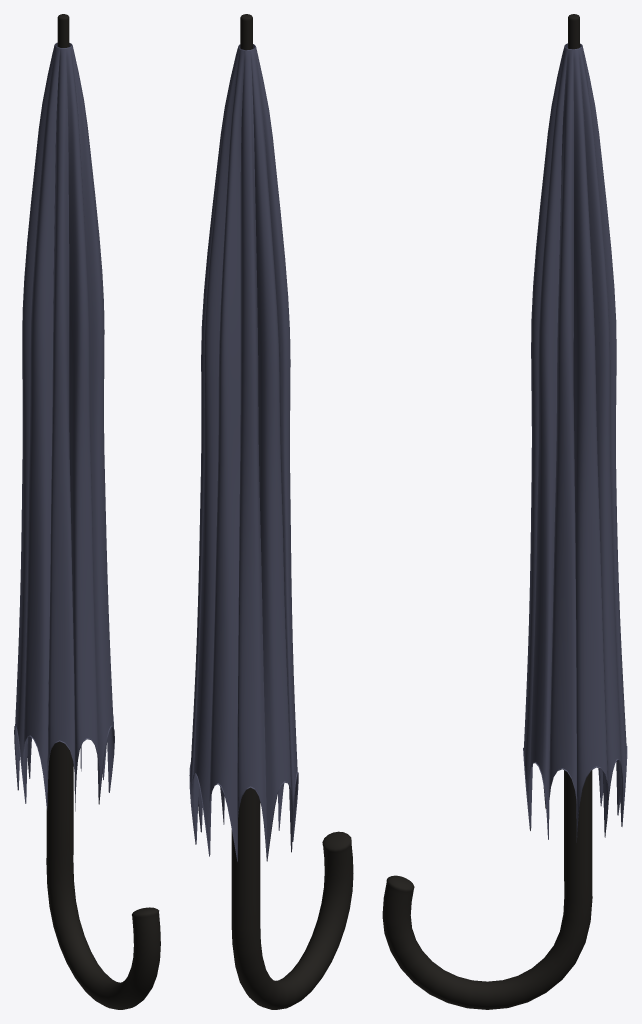
The model's file is Umbrella.fbx.
3 renders of one model, left to right at view 1: azimuth 30°, elevation 25°; view 2: azimuth 150°, elevation 25°; view 3: azimuth 270°, elevation 25°, orthographic. The views are drawn at different scales.
Visible parts, largest first — view 1: Umbrella_Teo_canopy_geo; view 2: Umbrella_Teo_canopy_geo; view 3: Umbrella_Teo_canopy_geo.
Boxes of the visible parts, box(x1,y1,x2,y2) form: Umbrella_Teo_canopy_geo: box(14, 14, 160, 1009); Umbrella_Teo_canopy_geo: box(189, 14, 353, 1009); Umbrella_Teo_canopy_geo: box(382, 14, 627, 1009).
Size of the model in its own units: 7.4 by 75.63 by 16.9.
